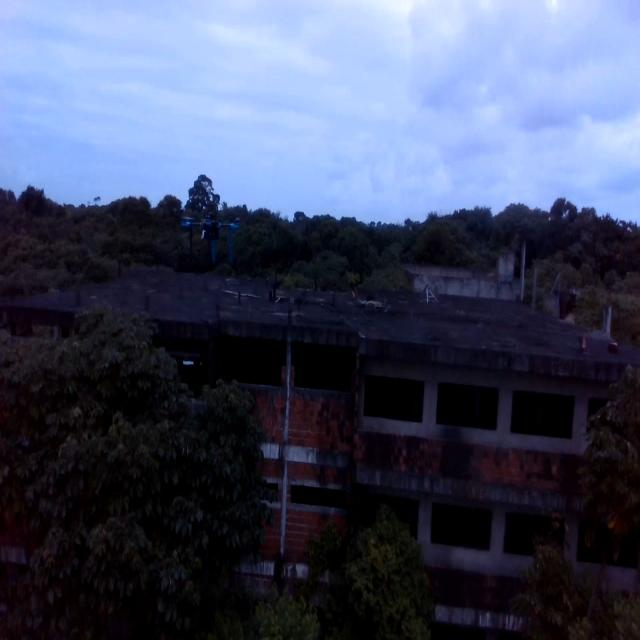-uav-: (175, 190, 246, 290)
